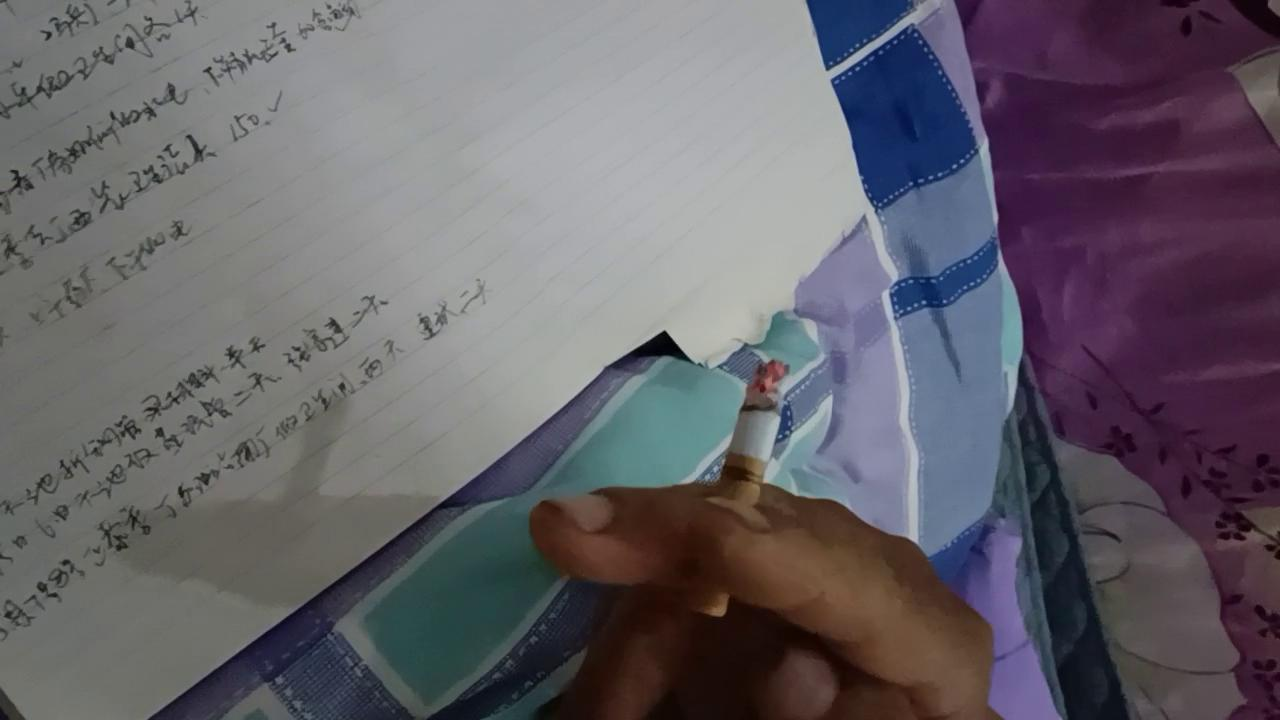smoke: (682, 360, 791, 618)
